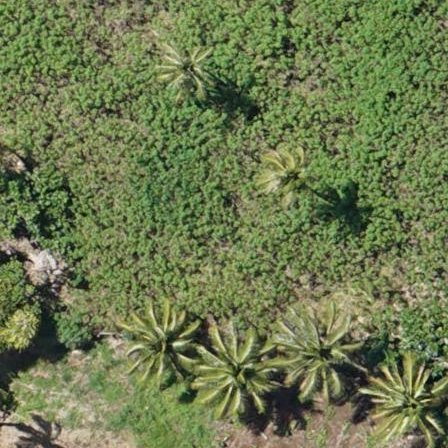palm_tree: (190, 326, 271, 412), (280, 312, 352, 388), (371, 359, 443, 435), (126, 303, 196, 378), (153, 33, 212, 96), (257, 144, 311, 202)
